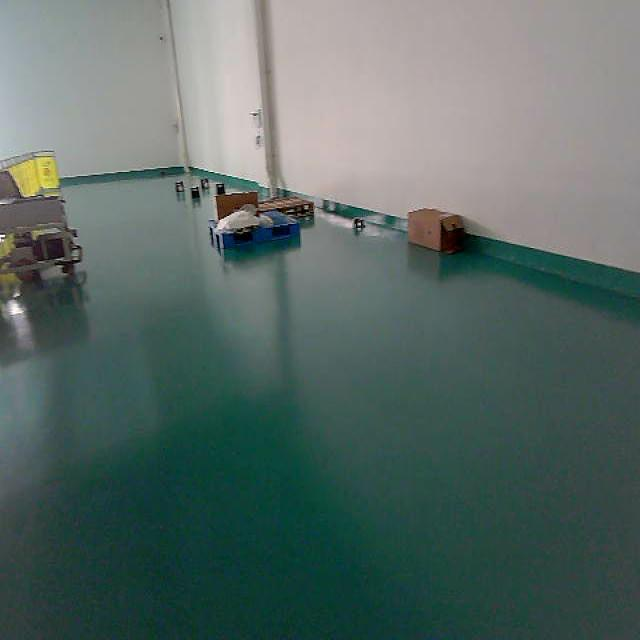euro: (261, 196, 314, 223)
